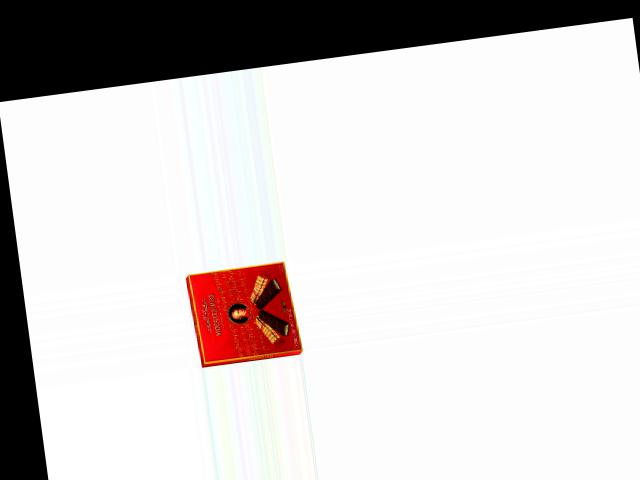chocolate: (187, 258, 306, 368)
